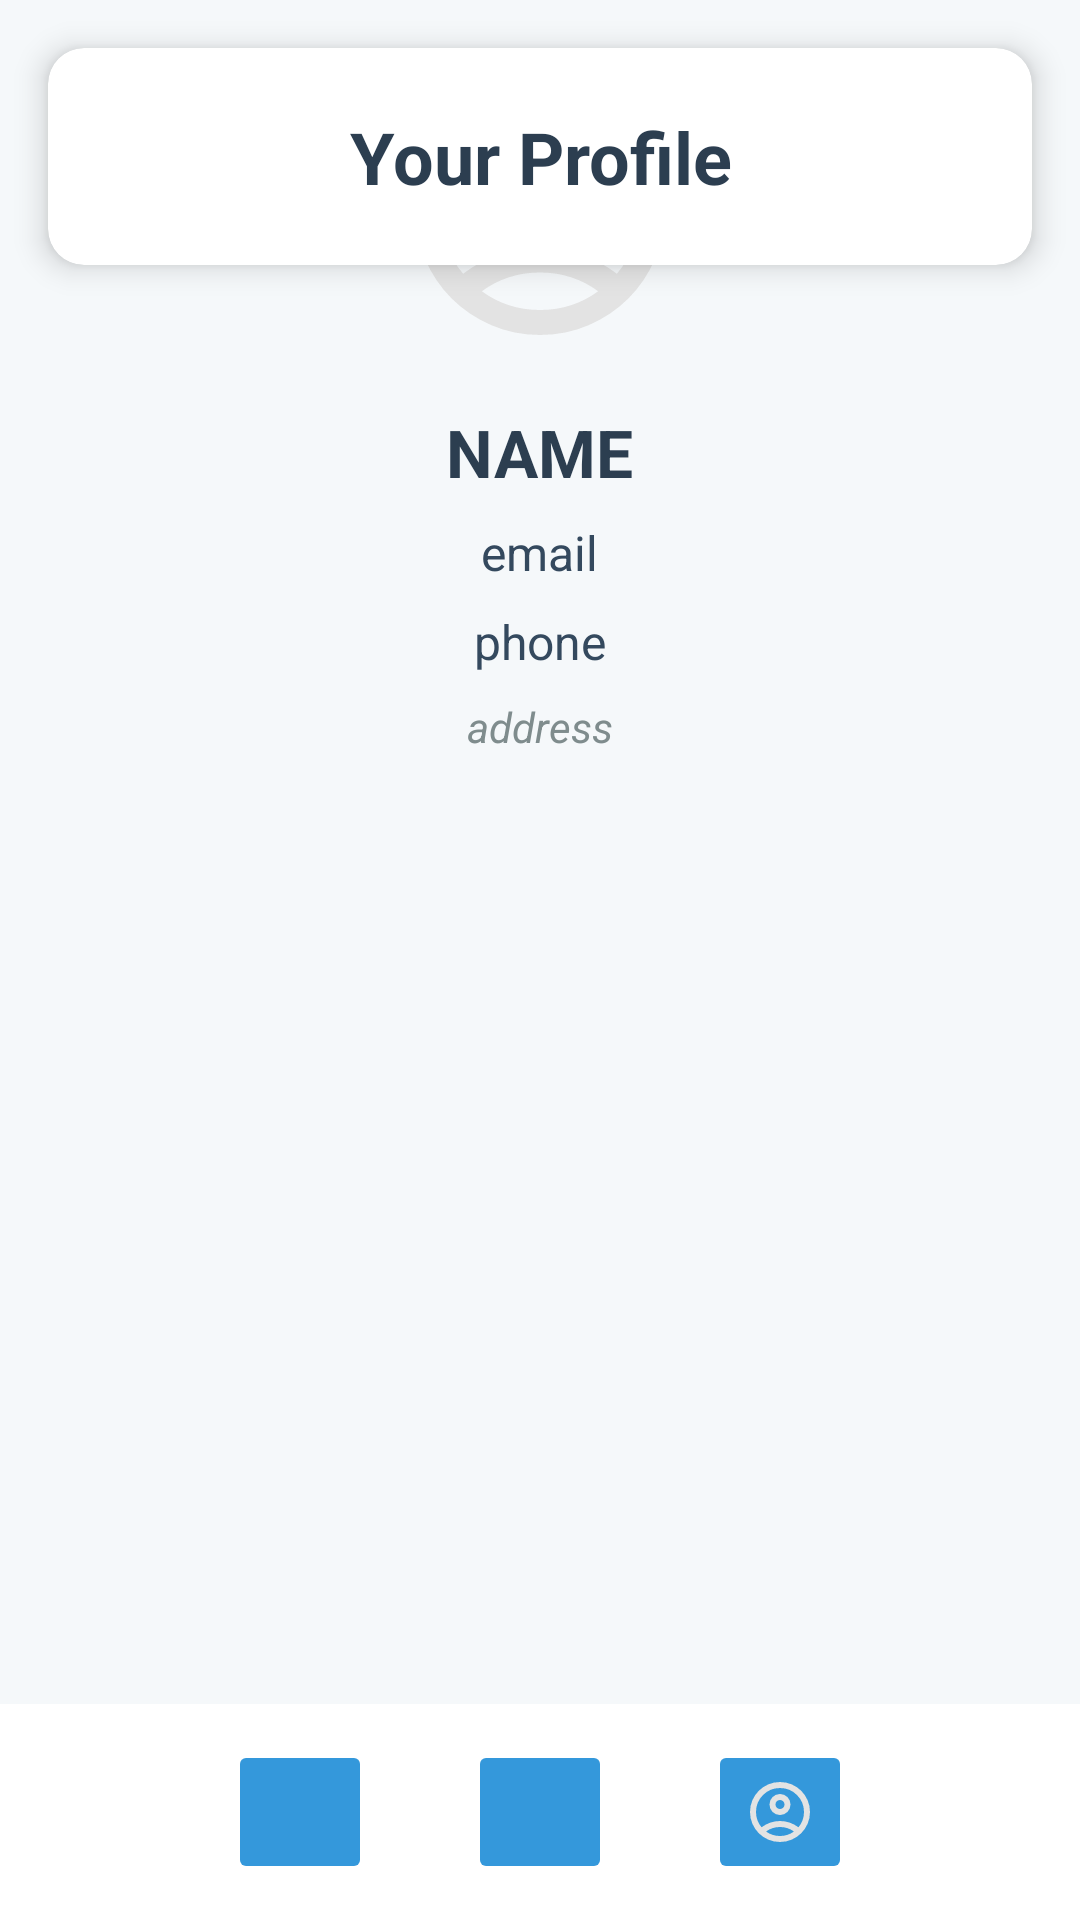

Icons on this 1080*1920 Android screen, each with the point to tap as [x,y]:
profile: [780,1812]
